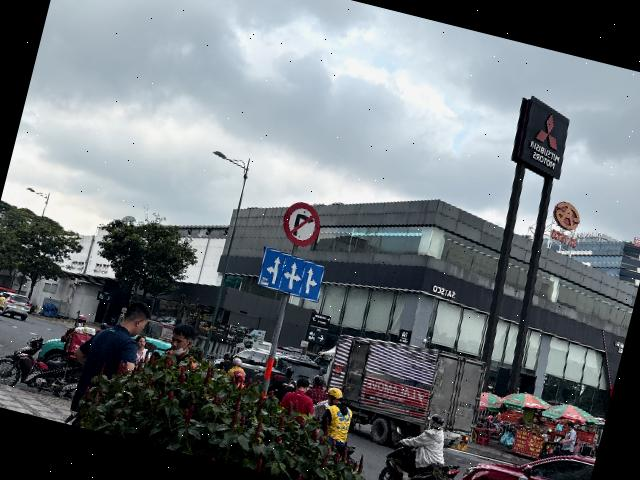cam-re-trai: (277, 198, 325, 251)
